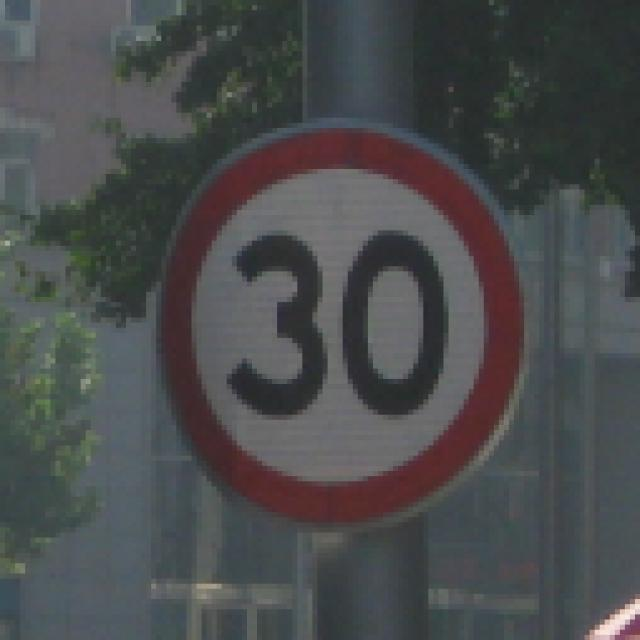Speed: (160, 107, 528, 535)
